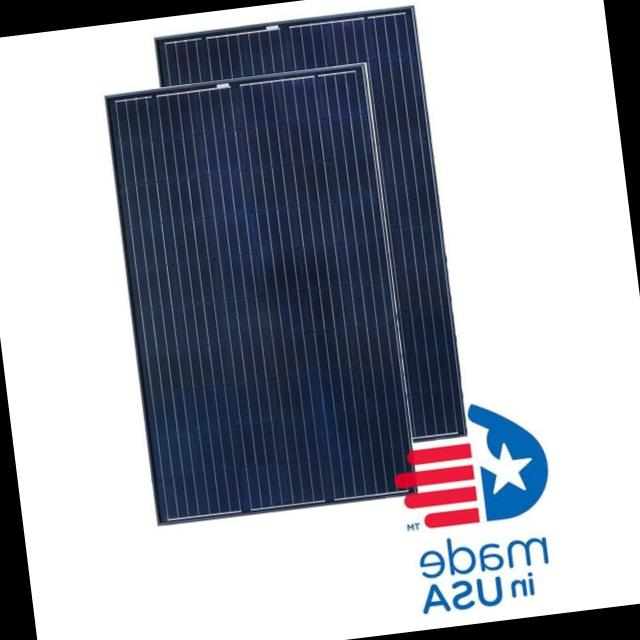no faulty: (102, 76, 422, 525), (171, 11, 464, 457)
